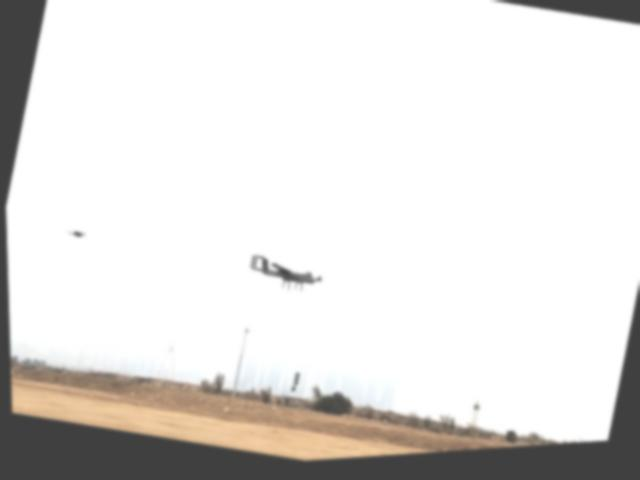plane: (243, 252, 326, 303), (64, 227, 88, 243)
